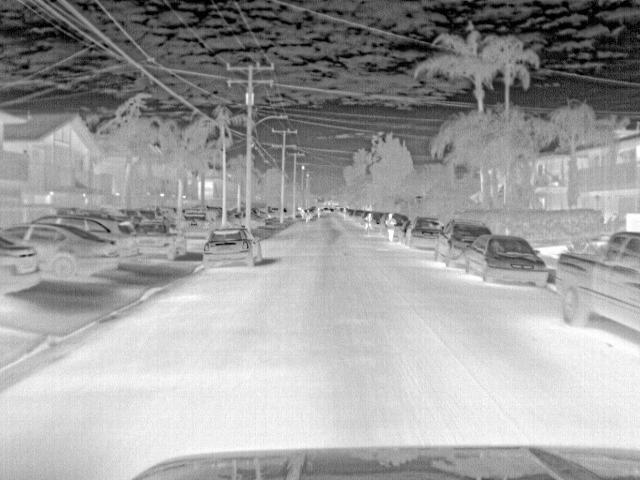car: (554, 229, 640, 339), (3, 221, 117, 282), (35, 214, 142, 260), (463, 234, 548, 290), (437, 222, 495, 266), (205, 226, 266, 265), (3, 232, 39, 296), (135, 221, 188, 259), (408, 218, 448, 246), (186, 208, 220, 236)
person: (384, 211, 398, 239), (362, 211, 378, 230)
